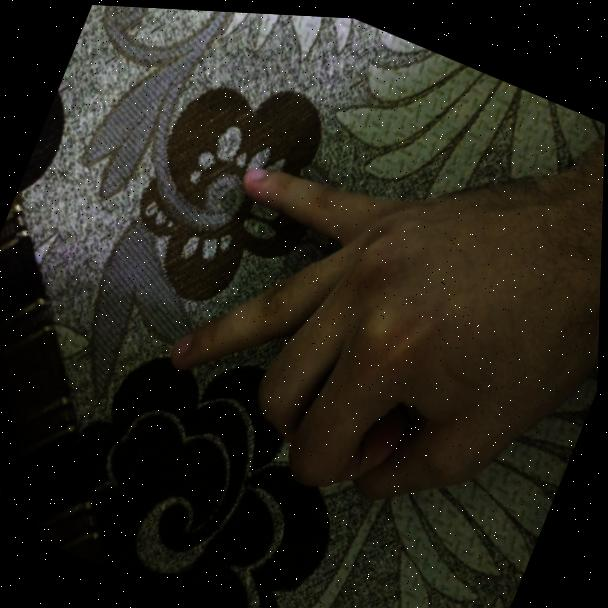five: (132, 99, 606, 566)
